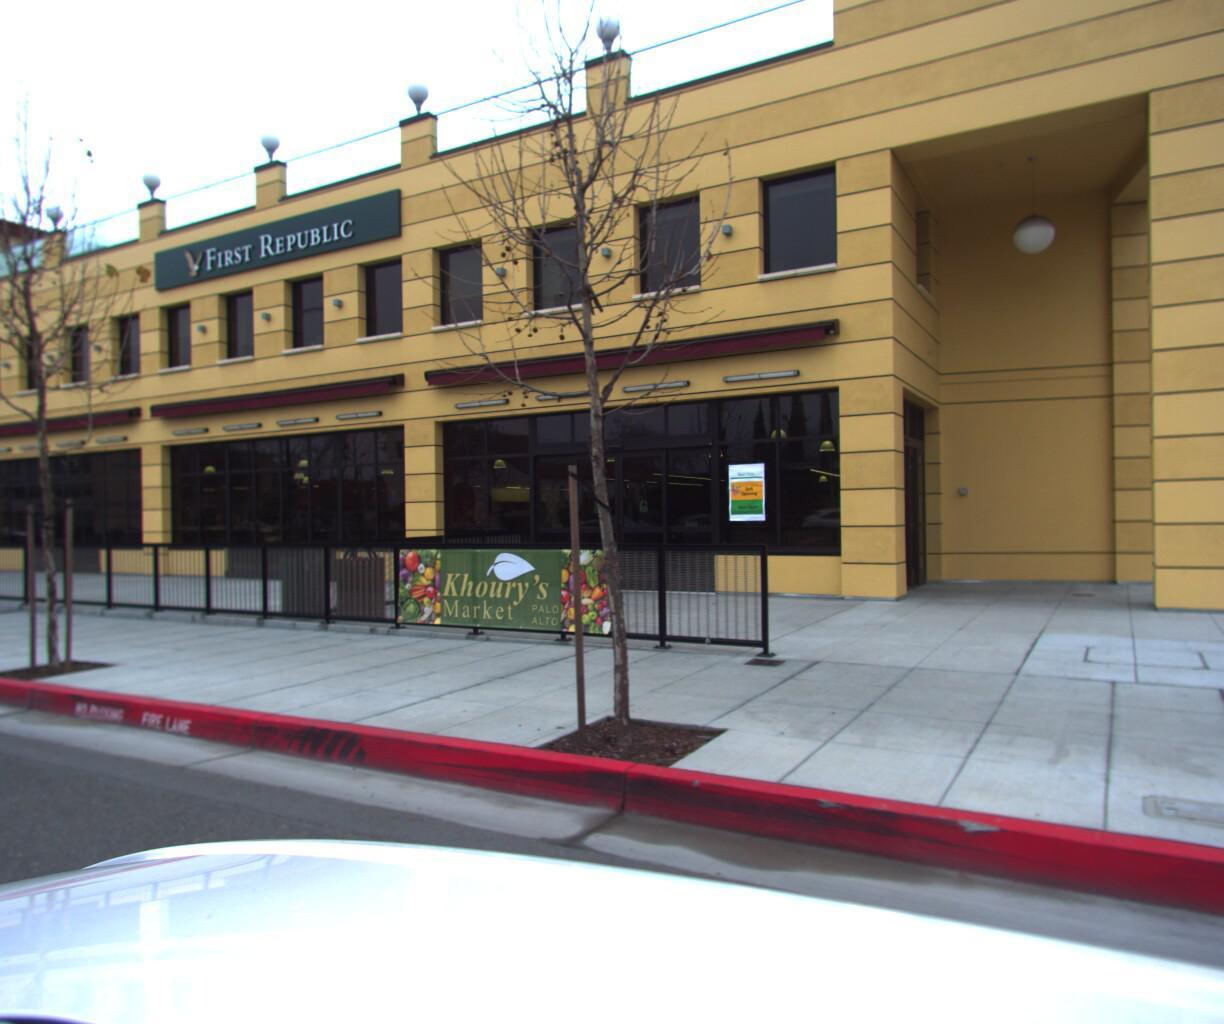car: (1155, 483, 1224, 560)
